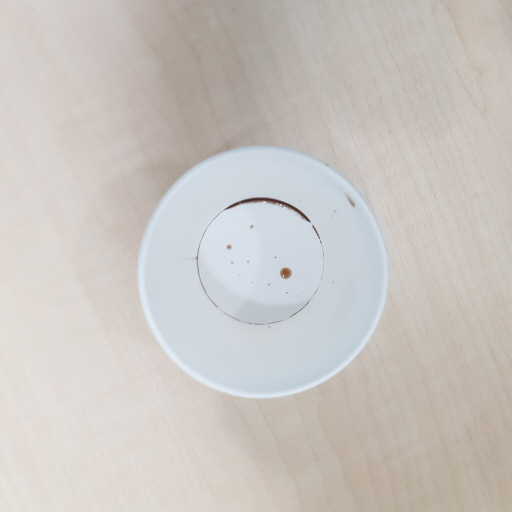Paper_1: (136, 147, 392, 397)
